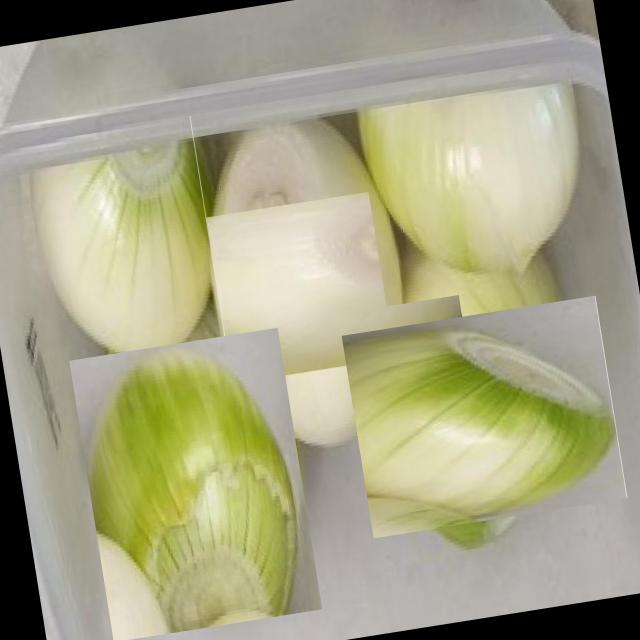Onion: (69, 327, 323, 640), (352, 284, 616, 550), (183, 155, 443, 416), (352, 56, 616, 306), (28, 115, 226, 368)
